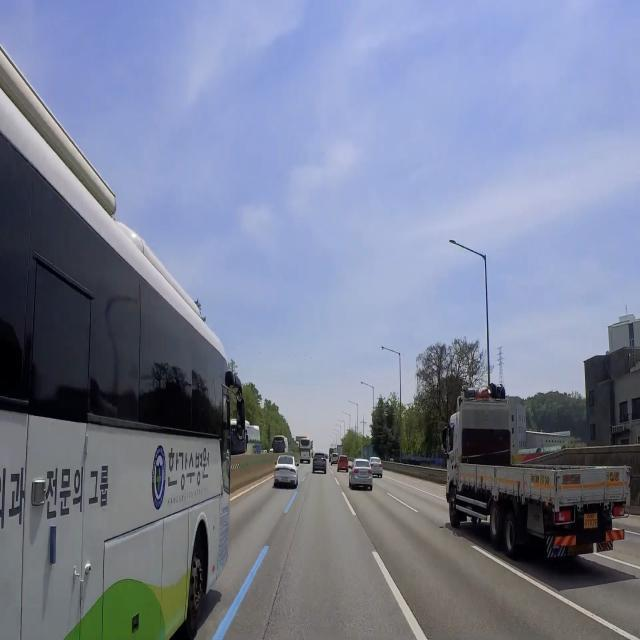car: (582, 507, 599, 533), (358, 470, 369, 479)
